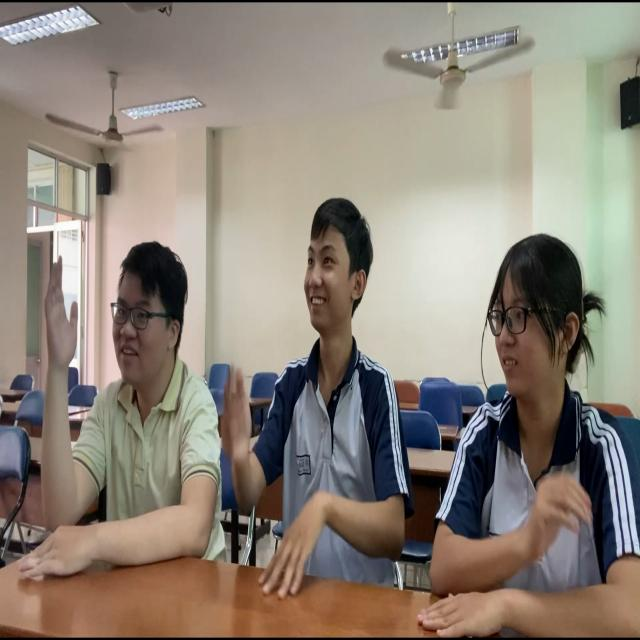raise_hand: (7, 228, 234, 579)
